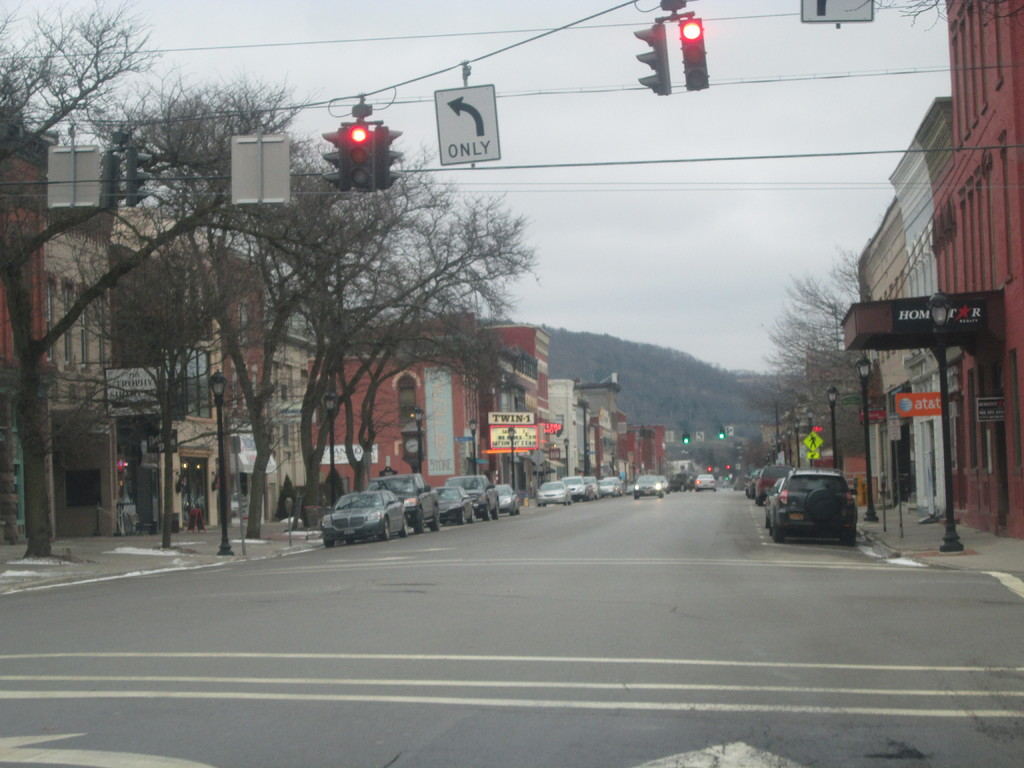green_light: (681, 432, 687, 445), (718, 426, 724, 439)
red_light: (680, 17, 708, 90), (343, 123, 374, 188)
